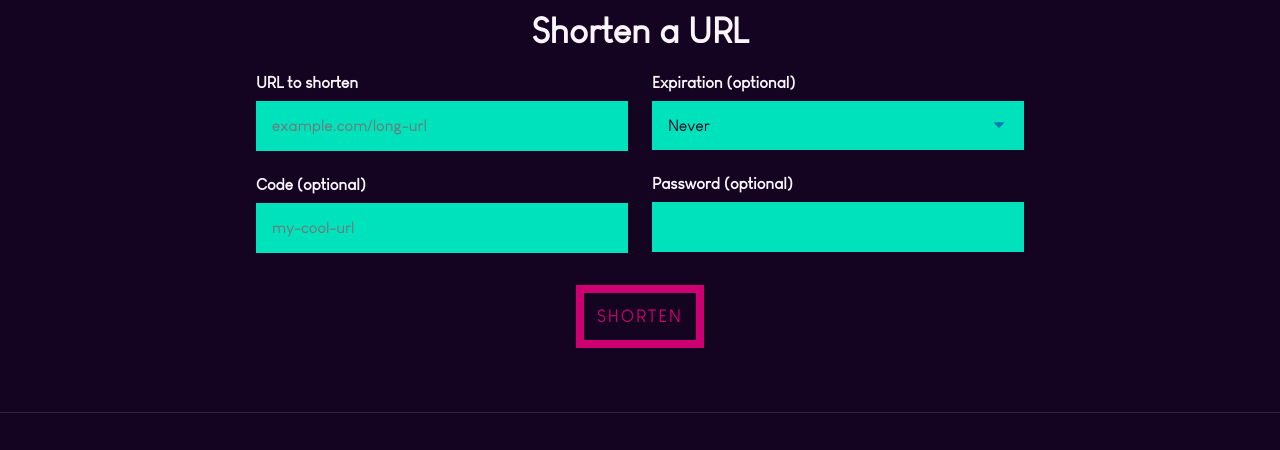
CreateUrl Component › shows error message if custom code is taken
Step 1. Type "example.com" into the field labelled "URL to shorten" → {"x": 442, "y": 126}, box [256,101,628,151]
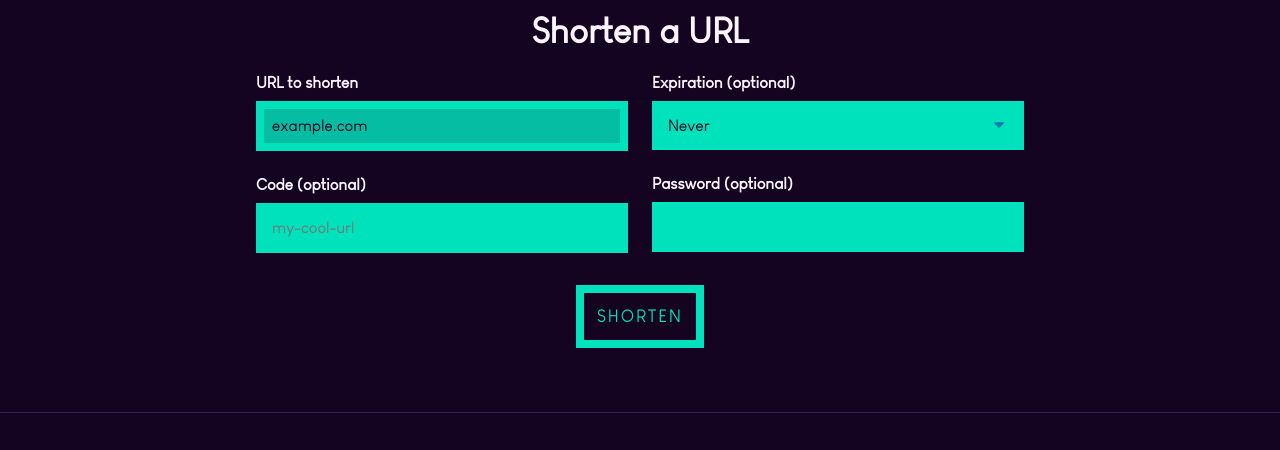
Step 2. Click the button "Shorten" → {"x": 640, "y": 317}, box [576,285,704,348]
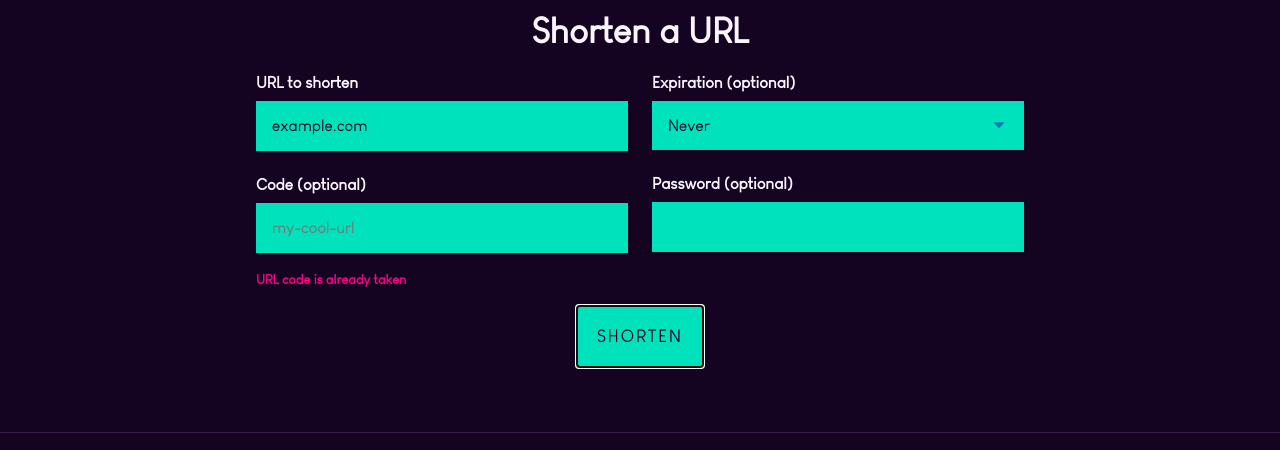
Expected: the text "URL code is already taken" is shown, [256,272,406,287]
